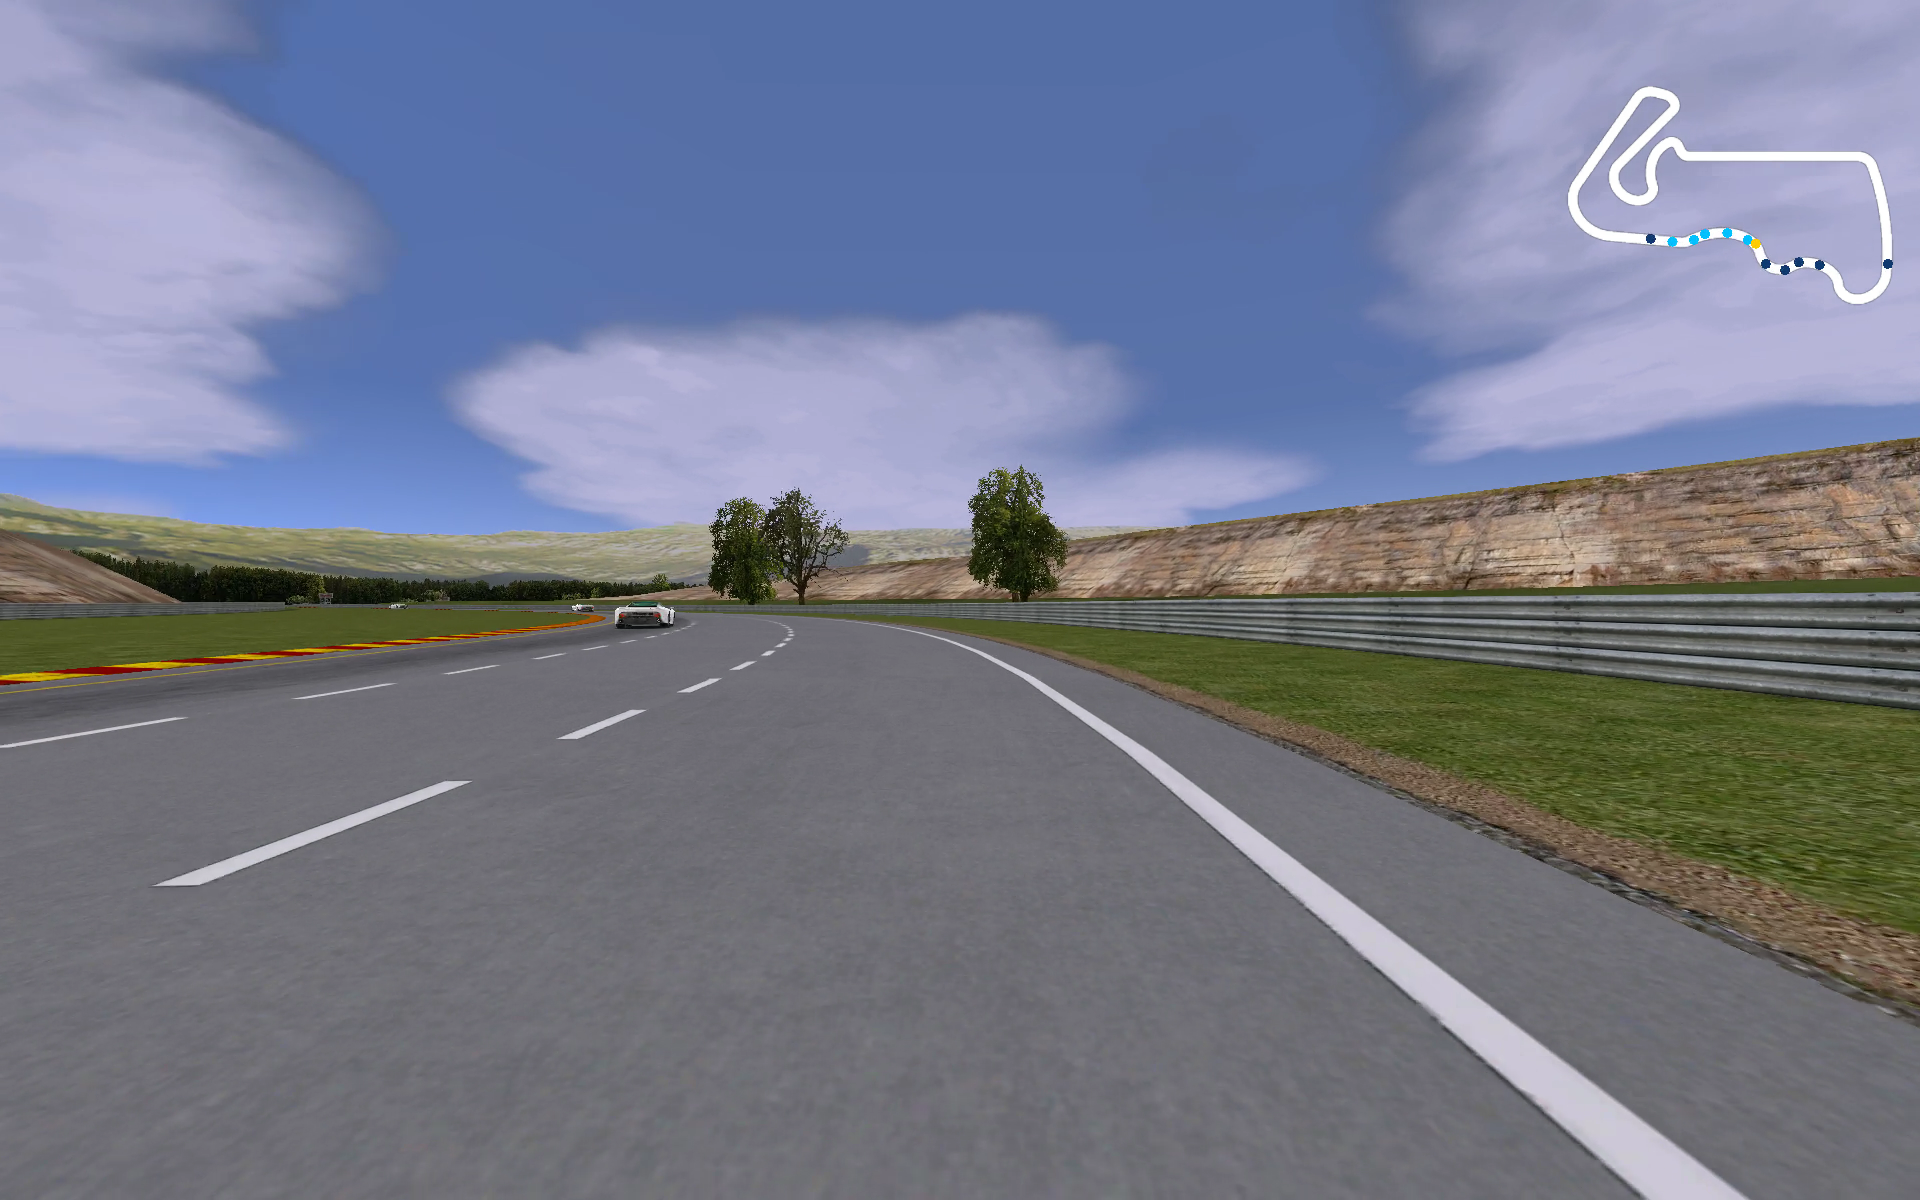car: (611, 599, 679, 632), (570, 601, 597, 617), (386, 599, 405, 611)
